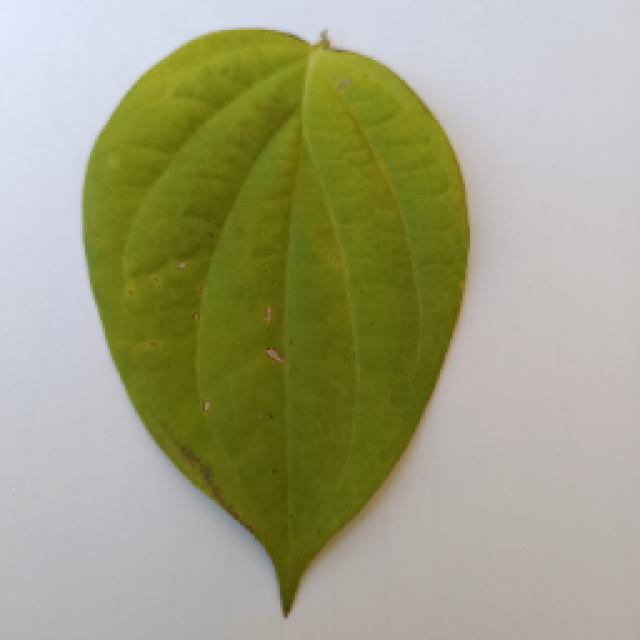slow-decline: (62, 35, 482, 617)
